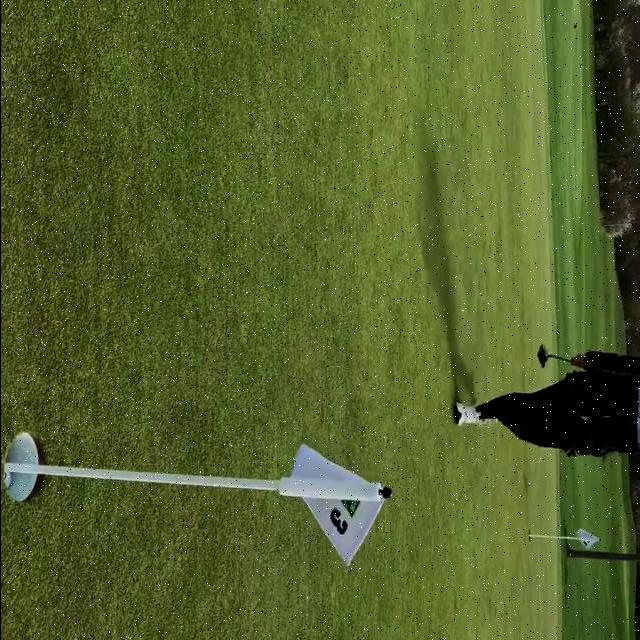golf club-handle: (535, 344, 572, 369)
golf club-head: (536, 345, 546, 366)
